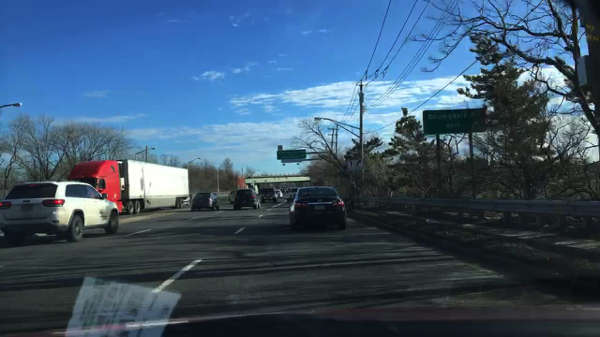car: (0, 179, 120, 242), (288, 185, 349, 230), (232, 188, 261, 210), (190, 192, 221, 211), (259, 187, 278, 204), (286, 186, 302, 199), (182, 193, 191, 207), (227, 191, 235, 206), (275, 189, 283, 198), (278, 188, 286, 195), (284, 187, 289, 193)
traffic sign: (420, 108, 487, 133), (276, 150, 306, 160), (345, 160, 363, 170), (277, 145, 283, 150)
truck: (60, 159, 191, 213)
